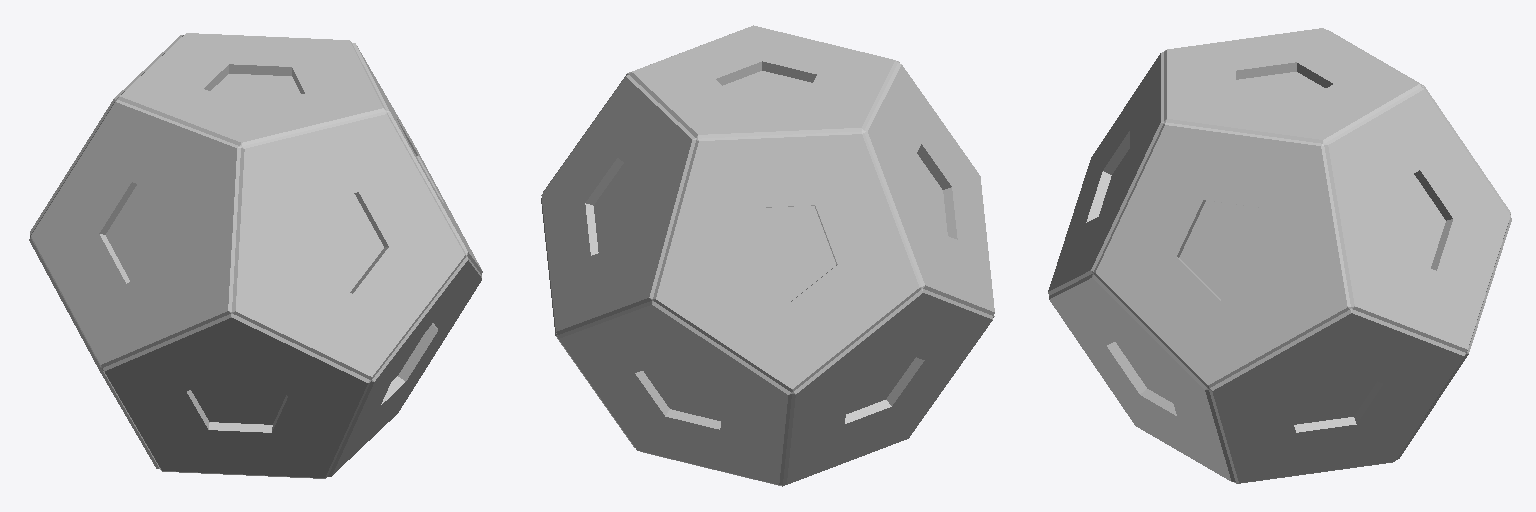
Rendered from pentaball.obj.
3 renders of one model, left to right at view 1: azimuth 30°, elevation 25°; view 2: azimuth 150°, elevation 25°; view 3: azimuth 270°, elevation 25°, orthographic.
Visible parts, largest first — view 1: pentaball; view 2: pentaball; view 3: pentaball.
Boxes of the visible parts, box(x1,y1,x2,y2) form: pentaball: box(29, 33, 482, 478); pentaball: box(541, 25, 994, 486); pentaball: box(1048, 28, 1511, 483).
Bounding box in the file's own units: 1.29 × 1.11 × 1.36.